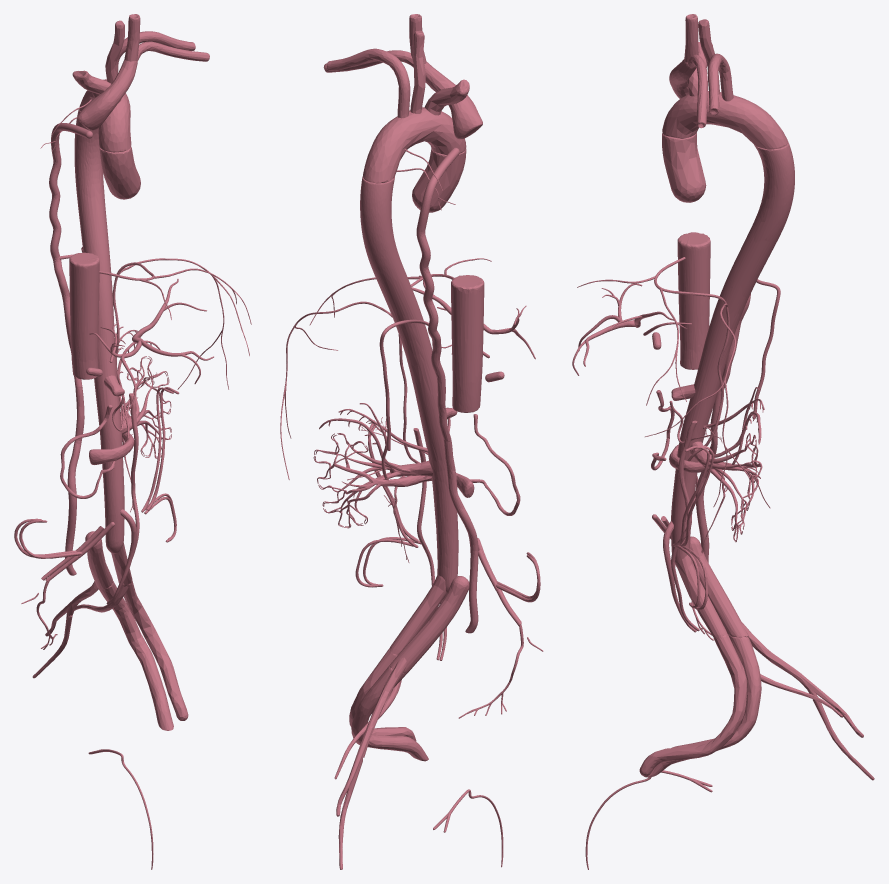
File: cardiovascular-11.glb
3 renders of one model, left to right at view 1: azimuth 30°, elevation 25°; view 2: azimuth 150°, elevation 25°; view 3: azimuth 270°, elevation 25°, orthographic. The views are drawn at different scales.
Visible parts, largest first — view 1: FJ3427, FJ3441, FJ3484, FJ3416, FJ3466, FJ3482, FJ3413, FJ3411, FJ3493, FJ3465, FJ3443, FJ3486 (+9 smaller); view 2: FJ3427, FJ3441, FJ3411, FJ3416, FJ3465, FJ3484, FJ3493, FJ3413, FJ3479, FJ3482, FJ3464, FJ3478 (+10 smaller); view 3: FJ3427, FJ3441, FJ3411, FJ3466, FJ3413, FJ3484, FJ3465, FJ3464, FJ3479, FJ3493, FJ3443, FJ3447 (+7 smaller).
Boxes of the visible parts, left/top/right/bottom form: FJ3427: left=74, top=109, right=124, bottom=553; FJ3441: left=69, top=252, right=99, bottom=379; FJ3484: left=98, top=581, right=173, bottom=730; FJ3416: left=49, top=123, right=92, bottom=387; FJ3466: left=122, top=581, right=188, bottom=720; FJ3482: left=77, top=59, right=137, bottom=130; FJ3413: left=99, top=146, right=140, bottom=199; FJ3411: left=79, top=79, right=131, bottom=152; FJ3493: left=65, top=387, right=84, bottom=575; FJ3465: left=85, top=531, right=113, bottom=589; FJ3443: left=106, top=393, right=139, bottom=604; FJ3486: left=137, top=41, right=209, bottom=61; FJ3427: left=360, top=176, right=458, bottom=593; FJ3441: left=451, top=275, right=484, bottom=412; FJ3411: left=363, top=107, right=466, bottom=183; FJ3416: left=416, top=147, right=459, bottom=441; FJ3465: left=390, top=576, right=469, bottom=673; FJ3484: left=351, top=665, right=428, bottom=761; FJ3493: left=443, top=439, right=478, bottom=633; FJ3413: left=412, top=148, right=466, bottom=212; FJ3479: left=327, top=48, right=410, bottom=118; FJ3482: left=424, top=61, right=482, bottom=139; FJ3464: left=389, top=575, right=446, bottom=654; FJ3478: left=315, top=434, right=399, bottom=527; FJ3427: left=671, top=142, right=794, bottom=566; FJ3441: left=677, top=232, right=710, bottom=369; FJ3411: left=662, top=91, right=788, bottom=149; FJ3466: left=639, top=635, right=747, bottom=776; FJ3413: left=662, top=133, right=706, bottom=202; FJ3484: left=643, top=635, right=761, bottom=777; FJ3465: left=690, top=536, right=748, bottom=637; FJ3464: left=676, top=552, right=727, bottom=639; FJ3479: left=707, top=53, right=733, bottom=115; FJ3493: left=695, top=391, right=721, bottom=562; FJ3443: left=671, top=420, right=699, bottom=631; FJ3447: left=654, top=257, right=729, bottom=461.
Bounding box in the file's own units: 0.1915 × 0.6656 × 0.2096.
